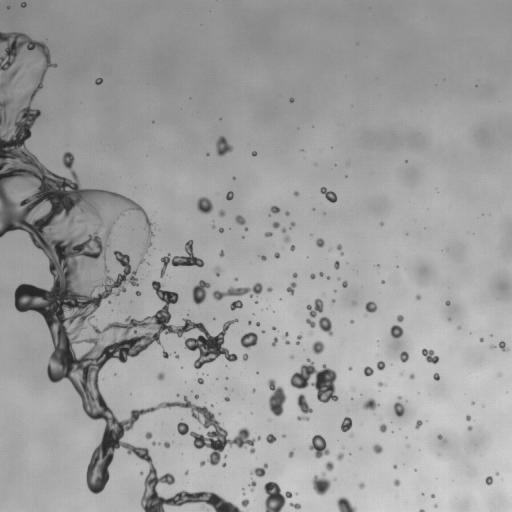droplet: (290, 358, 338, 403), (308, 433, 330, 458), (191, 280, 210, 307), (311, 471, 331, 496), (296, 393, 313, 421), (215, 136, 233, 156), (339, 416, 354, 438), (196, 196, 213, 214), (336, 496, 356, 511), (320, 186, 337, 203), (240, 332, 257, 349), (363, 397, 380, 414), (421, 348, 439, 364), (364, 301, 377, 316), (311, 340, 324, 354), (393, 401, 404, 417), (390, 325, 403, 338), (286, 282, 297, 295), (230, 299, 243, 310), (498, 340, 510, 351), (281, 331, 290, 345), (372, 443, 383, 454), (37, 154, 48, 165), (58, 166, 69, 177), (225, 206, 236, 217), (223, 214, 234, 225), (18, 229, 29, 240), (323, 263, 334, 274), (337, 266, 348, 277), (42, 279, 53, 290), (209, 279, 220, 290), (181, 290, 192, 301), (32, 311, 43, 322), (169, 316, 180, 327), (208, 325, 219, 336), (230, 328, 241, 339), (314, 329, 325, 340), (302, 337, 313, 348), (232, 344, 243, 355), (410, 349, 421, 360), (107, 356, 118, 367), (305, 384, 316, 395), (287, 387, 298, 398), (281, 399, 292, 410), (179, 407, 190, 418), (117, 410, 128, 421), (217, 416, 228, 427), (95, 418, 106, 429), (188, 420, 199, 431), (226, 428, 237, 439), (120, 432, 131, 443), (182, 433, 193, 444), (375, 433, 386, 444), (91, 434, 102, 445), (135, 437, 146, 448), (255, 438, 266, 449), (201, 445, 212, 456), (112, 446, 123, 457), (323, 470, 334, 481), (134, 481, 145, 492), (203, 482, 214, 493), (155, 483, 166, 494), (304, 483, 315, 494), (324, 488, 335, 499), (221, 491, 232, 502), (421, 497, 432, 508), (289, 502, 302, 511), (399, 351, 409, 362), (265, 433, 276, 443), (363, 366, 373, 376), (324, 461, 334, 471), (181, 502, 192, 511), (213, 265, 221, 277), (376, 360, 385, 370), (315, 238, 324, 247), (336, 452, 345, 461), (29, 101, 38, 110), (208, 144, 217, 153), (209, 207, 218, 216), (271, 212, 280, 221), (215, 217, 224, 226), (25, 276, 34, 285), (204, 287, 213, 296), (239, 293, 248, 302), (155, 299, 164, 308), (134, 312, 143, 321), (265, 330, 274, 339), (402, 403, 411, 412), (292, 405, 301, 414), (198, 427, 207, 436), (319, 454, 328, 463), (140, 460, 149, 469), (391, 469, 400, 478), (257, 476, 266, 485), (305, 481, 314, 490), (188, 484, 197, 493), (231, 497, 240, 506), (226, 190, 234, 200), (270, 205, 280, 213), (414, 419, 422, 429), (379, 423, 387, 433), (271, 336, 278, 347), (156, 371, 164, 380), (485, 476, 493, 485), (288, 448, 295, 458), (505, 347, 511, 358), (162, 505, 173, 511), (204, 505, 215, 511), (255, 505, 266, 511), (280, 505, 291, 511), (329, 505, 340, 511), (396, 314, 404, 322), (393, 478, 401, 486), (94, 78, 103, 85), (377, 381, 387, 387), (218, 209, 225, 217), (272, 221, 280, 228), (433, 372, 440, 380), (145, 431, 152, 439), (163, 441, 170, 449), (358, 481, 365, 489), (0, 26, 7, 33), (15, 26, 22, 33), (30, 34, 37, 41), (44, 40, 51, 47), (29, 125, 36, 132), (211, 135, 218, 142), (225, 137, 232, 144), (23, 138, 30, 145), (71, 150, 78, 157), (223, 151, 230, 158), (71, 161, 78, 168), (78, 182, 85, 189), (199, 190, 206, 197), (190, 200, 197, 207), (199, 211, 206, 218), (266, 224, 273, 231), (272, 227, 279, 234), (4, 230, 11, 237), (312, 232, 319, 239), (192, 250, 199, 257), (266, 252, 273, 259), (42, 259, 49, 266), (232, 281, 239, 288), (10, 283, 17, 290), (219, 285, 226, 292), (8, 294, 15, 301), (230, 294, 237, 301), (100, 297, 107, 304), (167, 303, 174, 310), (315, 311, 322, 318), (312, 316, 319, 323), (118, 317, 125, 324), (450, 319, 457, 326), (252, 326, 259, 333), (209, 330, 216, 337), (269, 330, 276, 337), (158, 331, 165, 338), (169, 332, 176, 339), (256, 333, 263, 340), (289, 335, 296, 342), (178, 336, 185, 343), (309, 336, 316, 343), (277, 337, 284, 344), (47, 345, 54, 352), (326, 362, 333, 369), (370, 362, 377, 369), (315, 364, 322, 371), (268, 372, 275, 379), (61, 376, 68, 383), (332, 379, 339, 386), (297, 387, 304, 394), (266, 389, 273, 396), (74, 394, 81, 401), (168, 395, 175, 402), (361, 395, 368, 402), (104, 398, 111, 405), (190, 398, 197, 405), (195, 399, 202, 406), (263, 402, 270, 409), (365, 407, 372, 414), (267, 410, 274, 417), (237, 422, 244, 429), (207, 424, 214, 431), (260, 432, 267, 439), (119, 435, 126, 442), (259, 436, 266, 443), (367, 447, 374, 454), (218, 449, 225, 456), (83, 457, 90, 464), (331, 458, 338, 465), (204, 461, 211, 468), (106, 464, 113, 471), (155, 470, 162, 477), (252, 474, 259, 481), (80, 479, 87, 486), (104, 481, 111, 488), (328, 481, 335, 488), (82, 485, 89, 492), (279, 488, 286, 495), (85, 489, 92, 496), (261, 491, 268, 498), (289, 495, 296, 502), (283, 497, 290, 504), (348, 499, 355, 506), (289, 221, 295, 229), (242, 353, 248, 361), (196, 378, 204, 384), (264, 232, 273, 237), (334, 260, 339, 269), (506, 339, 511, 348), (425, 506, 434, 511), (218, 226, 224, 233), (223, 395, 230, 401), (219, 249, 224, 257), (292, 271, 297, 279), (305, 330, 313, 335), (293, 190, 299, 196), (273, 252, 279, 258), (266, 286, 272, 292), (415, 294, 421, 300), (409, 373, 415, 379), (467, 425, 473, 431), (0, 92, 4, 101), (290, 244, 295, 251), (342, 280, 347, 287), (134, 290, 141, 295), (489, 344, 496, 349), (466, 414, 471, 421), (20, 2, 26, 7), (289, 97, 294, 103), (251, 151, 257, 156), (310, 273, 315, 279), (351, 301, 357, 306), (445, 300, 450, 306), (255, 321, 261, 326), (398, 371, 404, 376), (496, 372, 502, 377), (331, 298, 335, 305), (184, 469, 188, 476), (289, 507, 296, 511), (431, 507, 438, 511), (456, 325, 461, 330), (289, 354, 294, 359), (350, 386, 355, 391), (397, 395, 402, 400), (221, 462, 226, 467), (392, 464, 397, 469), (430, 493, 435, 498), (49, 58, 54, 63), (47, 66, 52, 71), (43, 73, 48, 78), (41, 80, 46, 85), (37, 88, 42, 93), (34, 92, 39, 97), (34, 117, 39, 122), (64, 147, 69, 152), (74, 169, 79, 174), (94, 184, 99, 189), (101, 185, 106, 190), (110, 187, 115, 192), (296, 187, 301, 192), (114, 188, 119, 193), (121, 191, 126, 196), (124, 192, 129, 197), (335, 192, 340, 197), (320, 193, 325, 198), (290, 194, 295, 199), (129, 195, 134, 200), (295, 195, 300, 200), (275, 202, 280, 207), (142, 205, 147, 210), (146, 212, 151, 217), (241, 213, 246, 218), (243, 221, 248, 226), (294, 221, 299, 226), (214, 224, 219, 229), (239, 224, 244, 229), (223, 226, 228, 231), (15, 228, 20, 233), (285, 229, 290, 234), (241, 230, 246, 235), (317, 233, 322, 238), (267, 235, 272, 240), (149, 236, 154, 241), (27, 238, 32, 243), (285, 243, 290, 248), (312, 243, 317, 248), (322, 243, 327, 248), (331, 244, 336, 249), (147, 246, 152, 251), (317, 246, 322, 251), (340, 246, 345, 251), (37, 248, 42, 253), (335, 249, 340, 254), (278, 250, 283, 255), (143, 253, 148, 258), (141, 261, 146, 266), (329, 261, 334, 266), (166, 262, 171, 267), (338, 262, 343, 267), (176, 264, 181, 269), (182, 264, 187, 269), (191, 264, 196, 269), (314, 272, 319, 277), (305, 273, 310, 278), (321, 275, 326, 280), (154, 276, 159, 281), (203, 277, 208, 282), (290, 277, 295, 282), (257, 278, 262, 283), (194, 280, 199, 285), (337, 280, 342, 285), (285, 282, 290, 287), (248, 283, 253, 288), (132, 285, 137, 290), (159, 285, 164, 290), (261, 286, 266, 291), (292, 286, 297, 291), (419, 291, 424, 296), (331, 293, 336, 298), (107, 294, 112, 299), (410, 294, 415, 299), (367, 296, 372, 301), (176, 297, 181, 302), (160, 300, 165, 305), (199, 301, 204, 306), (375, 302, 380, 307), (310, 303, 315, 308), (360, 303, 365, 308), (12, 307, 17, 312), (234, 307, 239, 312), (361, 307, 366, 312), (266, 308, 271, 313), (150, 310, 155, 315), (399, 310, 404, 315), (367, 311, 372, 316), (305, 313, 310, 318), (328, 316, 333, 321), (89, 318, 94, 323), (108, 318, 113, 323), (193, 318, 198, 323), (179, 321, 184, 326), (250, 321, 255, 326), (396, 321, 401, 326), (203, 323, 208, 328), (228, 323, 233, 328), (305, 323, 310, 328), (258, 324, 263, 329), (97, 325, 102, 330), (217, 326, 222, 331), (329, 326, 334, 331), (225, 328, 230, 333), (244, 328, 249, 333), (385, 328, 390, 333), (294, 330, 299, 335), (239, 331, 244, 336), (401, 331, 406, 336), (46, 334, 51, 339), (285, 335, 290, 340), (398, 335, 403, 340), (268, 337, 273, 342), (393, 337, 398, 342), (255, 338, 260, 343), (151, 340, 156, 345), (249, 344, 254, 349), (425, 345, 430, 350), (496, 346, 501, 351), (194, 348, 199, 353), (396, 349, 401, 354), (139, 350, 144, 355), (158, 351, 163, 356), (407, 351, 412, 356), (219, 353, 224, 358), (236, 354, 241, 359), (126, 355, 131, 360), (421, 355, 426, 360), (376, 356, 381, 361), (405, 359, 410, 364), (229, 360, 234, 365), (428, 361, 433, 366), (202, 362, 207, 367), (384, 362, 389, 367), (382, 366, 387, 371), (42, 369, 47, 374), (359, 370, 364, 375), (153, 371, 158, 376), (288, 371, 293, 376), (413, 371, 418, 376), (404, 372, 409, 377), (163, 374, 168, 379), (201, 374, 206, 379), (368, 374, 373, 379), (44, 375, 49, 380), (408, 378, 413, 383), (96, 379, 101, 384), (158, 379, 163, 384), (223, 380, 228, 385), (379, 385, 384, 390), (71, 388, 76, 393), (223, 391, 228, 396), (348, 391, 353, 396), (249, 392, 254, 397), (393, 397, 398, 402), (328, 398, 333, 403), (374, 398, 379, 403), (398, 398, 403, 403), (389, 401, 394, 406), (151, 402, 156, 407), (142, 404, 147, 409), (136, 405, 141, 410), (174, 405, 179, 410), (374, 405, 379, 410), (164, 406, 169, 411), (185, 406, 190, 411), (207, 406, 212, 411), (390, 409, 395, 414), (151, 410, 156, 415), (305, 411, 310, 416), (402, 411, 407, 416), (346, 412, 351, 417), (138, 413, 143, 418), (213, 415, 218, 420), (86, 416, 91, 421), (461, 416, 466, 421), (299, 419, 304, 424), (133, 420, 138, 425), (377, 420, 382, 425), (411, 420, 416, 425), (466, 420, 471, 425), (336, 421, 341, 426), (218, 422, 223, 427), (172, 424, 177, 429), (418, 424, 423, 429), (349, 425, 354, 430), (187, 426, 192, 431), (336, 426, 341, 431), (146, 427, 151, 432), (385, 427, 390, 432), (346, 428, 351, 433), (173, 429, 178, 434), (376, 429, 381, 434), (140, 432, 145, 437), (309, 432, 314, 437), (321, 433, 326, 438), (247, 434, 252, 439), (432, 434, 437, 439), (149, 436, 154, 441), (189, 436, 194, 441), (324, 438, 329, 443), (403, 438, 408, 443), (438, 438, 443, 443), (253, 440, 258, 445), (271, 440, 276, 445), (307, 440, 312, 445), (378, 441, 383, 446), (231, 442, 236, 447), (159, 443, 164, 448), (224, 443, 229, 448), (325, 443, 330, 448), (246, 444, 251, 449), (193, 447, 198, 452), (337, 448, 342, 453), (284, 449, 289, 454), (147, 450, 152, 455), (343, 450, 348, 455), (378, 451, 383, 456), (130, 452, 135, 457), (250, 452, 255, 457), (292, 452, 297, 457), (342, 455, 347, 460), (196, 457, 201, 462), (219, 457, 224, 462), (153, 463, 158, 468), (258, 463, 263, 468), (82, 466, 87, 471), (263, 467, 268, 472), (168, 469, 173, 474), (498, 472, 503, 477), (481, 474, 486, 479), (491, 474, 496, 479), (173, 475, 178, 480), (397, 475, 402, 480), (389, 478, 394, 483), (354, 479, 359, 484), (363, 480, 368, 485), (398, 482, 403, 487), (488, 483, 493, 488), (363, 484, 368, 489), (354, 485, 359, 490), (244, 486, 249, 491), (289, 488, 294, 493), (138, 491, 143, 496), (425, 492, 430, 497), (240, 495, 245, 500), (246, 503, 251, 508), (131, 227, 135, 233), (318, 272, 324, 276), (247, 320, 251, 326), (0, 200, 3, 207), (285, 211, 289, 216), (379, 221, 383, 226), (349, 320, 354, 324), (479, 337, 483, 342), (348, 366, 353, 370), (251, 388, 255, 393), (194, 394, 198, 399), (152, 441, 156, 446), (139, 470, 143, 475), (495, 471, 499, 476), (433, 503, 437, 508), (328, 247, 332, 251), (234, 277, 238, 281), (381, 280, 385, 284), (447, 317, 451, 321), (471, 401, 475, 405), (332, 477, 336, 481), (281, 434, 286, 437), (295, 508, 300, 511), (6, 6, 10, 9), (206, 152, 209, 156), (232, 176, 235, 180), (405, 232, 408, 236), (241, 235, 245, 238), (326, 276, 330, 279), (333, 289, 337, 292), (254, 300, 258, 303), (261, 330, 265, 333), (225, 376, 228, 380), (224, 386, 227, 390), (176, 393, 179, 397), (406, 444, 410, 447), (348, 452, 351, 456), (294, 492, 298, 495), (0, 68, 2, 73), (314, 162, 317, 165), (345, 175, 348, 178), (312, 208, 315, 211), (268, 213, 271, 216), (323, 212, 326, 215), (309, 233, 312, 236), (396, 265, 399, 268), (337, 277, 340, 280), (108, 300, 111, 303), (272, 310, 275, 313), (186, 313, 189, 316), (252, 312, 255, 315), (212, 317, 215, 320), (180, 366, 183, 369), (256, 371, 259, 374), (215, 377, 218, 380), (350, 397, 353, 400), (210, 404, 213, 407), (218, 412, 221, 415), (268, 418, 271, 421), (398, 427, 401, 430), (391, 430, 394, 433), (158, 442, 161, 445), (341, 446, 344, 449), (359, 447, 362, 450), (414, 468, 417, 471), (6, 2, 9, 5), (17, 3, 20, 6), (3, 6, 6, 9), (19, 6, 22, 9), (23, 6, 26, 9), (7, 8, 10, 11), (98, 74, 101, 77), (93, 76, 96, 79), (475, 81, 478, 84), (100, 82, 103, 85), (94, 83, 97, 86), (471, 83, 474, 86), (475, 86, 478, 89), (286, 97, 289, 100), (286, 100, 289, 103), (290, 102, 293, 105), (154, 119, 157, 122), (219, 119, 222, 122), (148, 120, 151, 123), (152, 122, 155, 125), (300, 145, 303, 148), (303, 147, 306, 150), (250, 148, 253, 151), (300, 150, 303, 153), (203, 151, 206, 154), (248, 152, 251, 155), (256, 152, 259, 155), (206, 155, 209, 158), (252, 155, 255, 158), (404, 156, 407, 159), (401, 159, 404, 162), (407, 159, 410, 162), (334, 160, 337, 163), (331, 164, 334, 167), (344, 171, 347, 174), (234, 174, 237, 177), (341, 175, 344, 178), (346, 176, 349, 179), (229, 177, 232, 180), (319, 184, 322, 187), (317, 188, 320, 191), (332, 189, 335, 192), (232, 190, 235, 193), (290, 190, 293, 193), (223, 193, 226, 196), (232, 195, 235, 198), (336, 196, 339, 199), (228, 199, 231, 202), (326, 199, 329, 202), (312, 204, 315, 207), (308, 207, 311, 210), (287, 208, 290, 211), (311, 210, 314, 213), (269, 211, 272, 214), (480, 215, 483, 218), (380, 218, 383, 221), (377, 224, 380, 227), (382, 224, 385, 227), (155, 225, 158, 228), (208, 225, 211, 228), (247, 226, 250, 229), (291, 226, 294, 229), (152, 230, 155, 233), (216, 230, 219, 233), (221, 231, 224, 234), (261, 233, 264, 236), (244, 236, 247, 239), (241, 238, 244, 241), (184, 239, 187, 242), (191, 244, 194, 247), (293, 248, 296, 251), (217, 249, 220, 252), (442, 249, 445, 252), (222, 250, 225, 253), (289, 250, 292, 253), (343, 251, 346, 254), (259, 252, 262, 255), (263, 252, 266, 255), (305, 252, 308, 255), (258, 256, 261, 259), (274, 257, 277, 260), (202, 259, 205, 262), (376, 260, 379, 263), (139, 263, 142, 266), (379, 263, 382, 266), (393, 263, 396, 266), (398, 264, 401, 267), (374, 265, 377, 268), (396, 267, 399, 270), (319, 268, 322, 271), (291, 270, 294, 273), (219, 272, 222, 275), (162, 274, 165, 277), (234, 274, 237, 277), (214, 275, 217, 278), (329, 276, 332, 279), (381, 276, 384, 279), (311, 278, 314, 281), (326, 279, 329, 282), (378, 279, 381, 282), (384, 279, 387, 282), (381, 283, 384, 286), (346, 284, 349, 287), (271, 285, 274, 288), (152, 289, 155, 292), (119, 290, 122, 293), (140, 291, 143, 294), (133, 293, 136, 296), (177, 294, 180, 297), (443, 298, 446, 301), (279, 299, 282, 302), (416, 299, 419, 302), (333, 301, 336, 304), (442, 302, 445, 305), (449, 302, 452, 305), (254, 303, 257, 306), (303, 304, 306, 307), (241, 305, 244, 308), (227, 306, 230, 309), (267, 306, 270, 309), (272, 307, 275, 310), (263, 308, 266, 311), (92, 311, 95, 314), (272, 312, 275, 315), (130, 315, 133, 318), (214, 315, 217, 318), (450, 315, 453, 318), (186, 316, 189, 319), (350, 316, 353, 319), (224, 318, 227, 321), (256, 318, 259, 321), (444, 318, 447, 321), (346, 319, 349, 322), (245, 320, 248, 323), (351, 322, 354, 325), (274, 324, 277, 327), (460, 324, 463, 327), (271, 329, 274, 332), (458, 329, 461, 332), (287, 331, 290, 334), (487, 331, 490, 334), (479, 334, 482, 337), (483, 337, 486, 340), (476, 338, 479, 341), (374, 341, 377, 344), (479, 341, 482, 344), (296, 344, 299, 347), (496, 344, 499, 347), (166, 350, 169, 353), (167, 355, 170, 358), (178, 355, 181, 358), (174, 357, 177, 360), (246, 357, 249, 360), (398, 359, 401, 362), (435, 361, 438, 364), (177, 366, 180, 369), (193, 367, 196, 370), (351, 367, 354, 370), (346, 369, 349, 372), (258, 371, 261, 374), (225, 373, 228, 376), (254, 373, 257, 376), (214, 374, 217, 377), (113, 375, 116, 378), (222, 375, 225, 378), (365, 375, 368, 378), (227, 377, 230, 380), (215, 379, 218, 382), (434, 379, 437, 382), (196, 382, 199, 385), (199, 383, 202, 386), (226, 385, 229, 388), (221, 387, 224, 390), (249, 387, 252, 390), (254, 390, 257, 393), (192, 392, 195, 395), (399, 392, 402, 395), (198, 394, 201, 397), (228, 395, 231, 398), (352, 395, 355, 398), (347, 396, 350, 399), (221, 397, 224, 400), (472, 398, 475, 401), (349, 399, 352, 402), (468, 399, 471, 402), (225, 400, 228, 403), (474, 401, 477, 404), (470, 404, 473, 407), (296, 419, 299, 422), (464, 426, 467, 429), (471, 427, 474, 430), (281, 431, 284, 434), (436, 431, 439, 434), (392, 432, 395, 435), (440, 432, 443, 435), (178, 433, 181, 436), (407, 435, 410, 438), (155, 440, 158, 443), (169, 442, 172, 445), (154, 443, 157, 446), (351, 452, 354, 455), (392, 461, 395, 464), (196, 462, 199, 465), (267, 463, 270, 466), (396, 464, 399, 467), (224, 465, 227, 468), (390, 465, 393, 468), (414, 465, 417, 468), (182, 469, 185, 472), (136, 471, 139, 474), (187, 471, 190, 474), (413, 471, 416, 474), (486, 473, 489, 476), (482, 479, 485, 482), (421, 489, 424, 492), (418, 490, 421, 493), (429, 491, 432, 494), (291, 492, 294, 495), (434, 493, 437, 496), (419, 494, 422, 497), (431, 497, 434, 500), (436, 502, 439, 505), (420, 506, 423, 509), (421, 493, 425, 495), (475, 84, 477, 87), (219, 117, 222, 119), (152, 120, 154, 123), (279, 298, 282, 300), (261, 308, 263, 311), (490, 334, 493, 336), (303, 348, 305, 351), (202, 372, 204, 375), (360, 393, 363, 395), (198, 426, 200, 429), (501, 478, 503, 481), (405, 160, 407, 162), (334, 164, 336, 166), (481, 213, 483, 215), (424, 227, 426, 229), (148, 254, 150, 256), (306, 256, 308, 258), (111, 309, 113, 311), (469, 332, 471, 334), (377, 340, 379, 342), (114, 373, 116, 375), (184, 381, 186, 383), (231, 389, 233, 391), (190, 390, 192, 392), (405, 400, 407, 402), (482, 405, 484, 407), (250, 412, 252, 414), (405, 436, 407, 438), (22, 0, 25, 1), (331, 146, 332, 148), (441, 249, 442, 251), (376, 354, 377, 356), (205, 401, 206, 403), (207, 374, 208, 375), (102, 379, 103, 380), (130, 393, 131, 394), (172, 441, 173, 442)
ligament: (212, 282, 263, 300), (267, 378, 287, 416), (247, 462, 268, 492), (235, 214, 248, 231), (280, 226, 290, 243), (295, 331, 302, 345), (336, 243, 343, 256), (437, 434, 447, 442), (257, 255, 266, 261), (272, 326, 279, 332), (241, 487, 245, 495), (212, 220, 215, 229), (373, 264, 380, 267), (266, 305, 270, 309), (225, 365, 229, 368), (419, 509, 425, 511), (300, 149, 304, 151)
